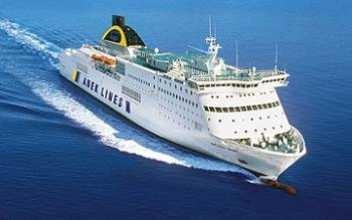youlun: (44, 14, 306, 181)
